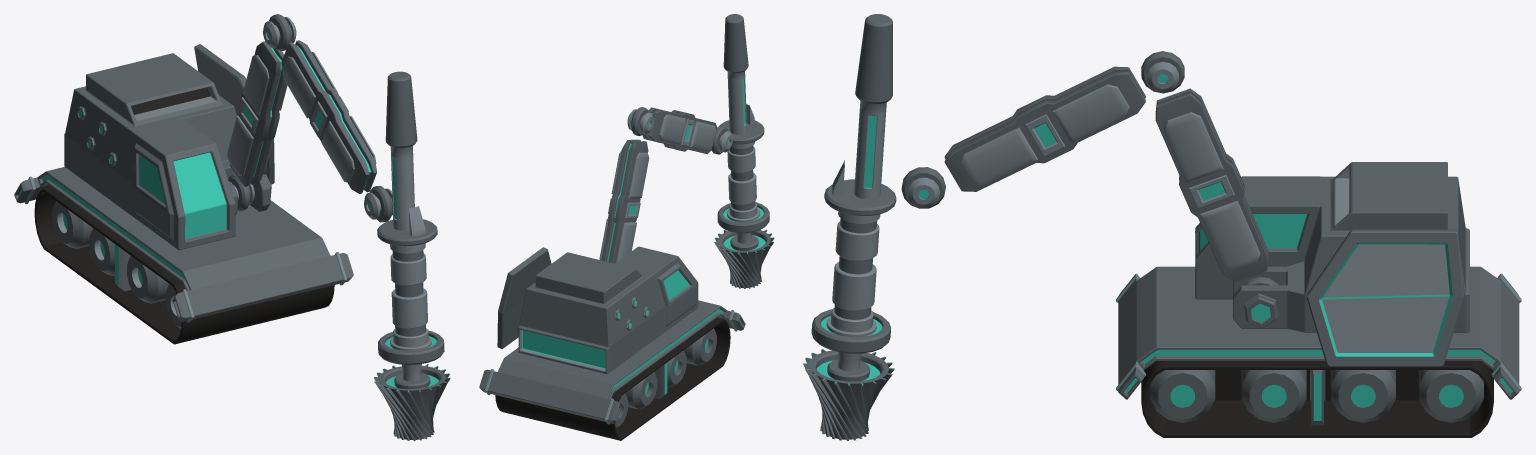
Rendered from SM_machina_B.fbx.
The picture shows the model from 3 angles, left to right: view 1: azimuth 30°, elevation 25°; view 2: azimuth 150°, elevation 25°; view 3: azimuth 270°, elevation 25°; orthographic projection. The views are drawn at different scales.
Parts seen in each view (by area): view 1: trivella; view 2: trivella; view 3: trivella.
Boxes of the visible parts, left/top/right/bottom form: trivella: left=14, top=14, right=450, bottom=440; trivella: left=479, top=14, right=774, bottom=440; trivella: left=803, top=14, right=1521, bottom=440.
Size of the model in its own units: 6.27 by 11.63 by 18.16.
